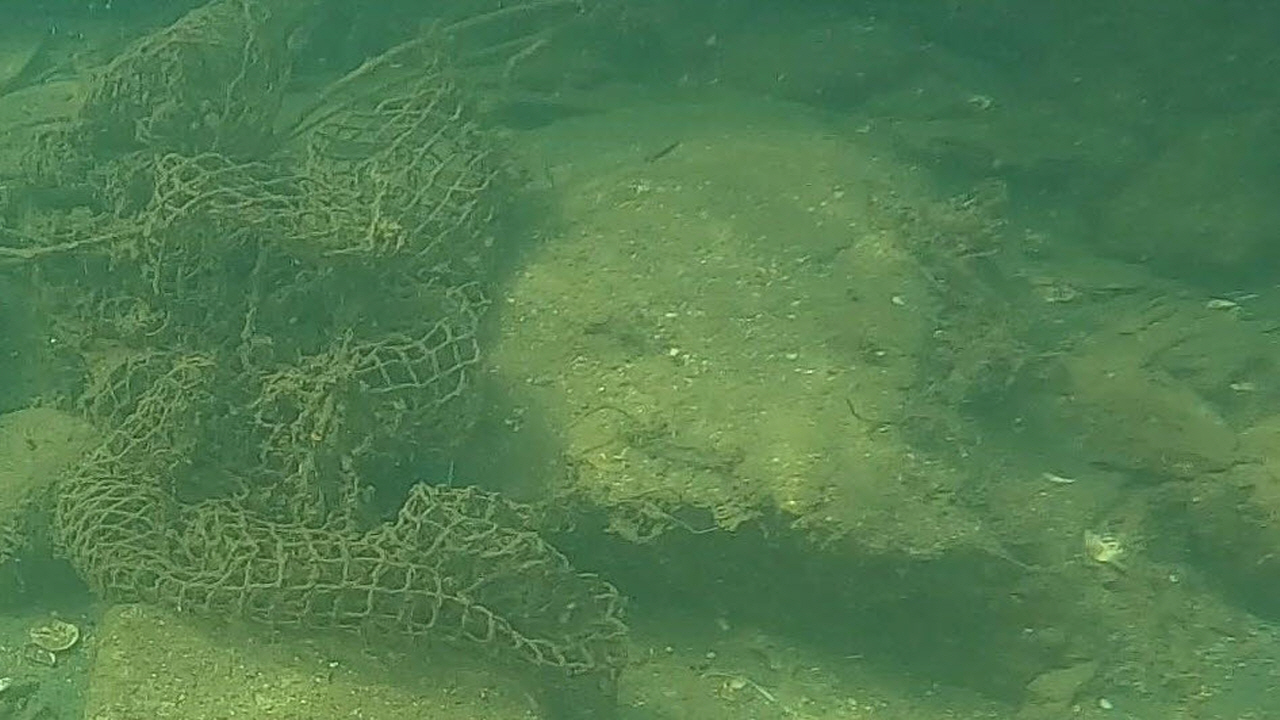fish net: (14, 0, 634, 679)
